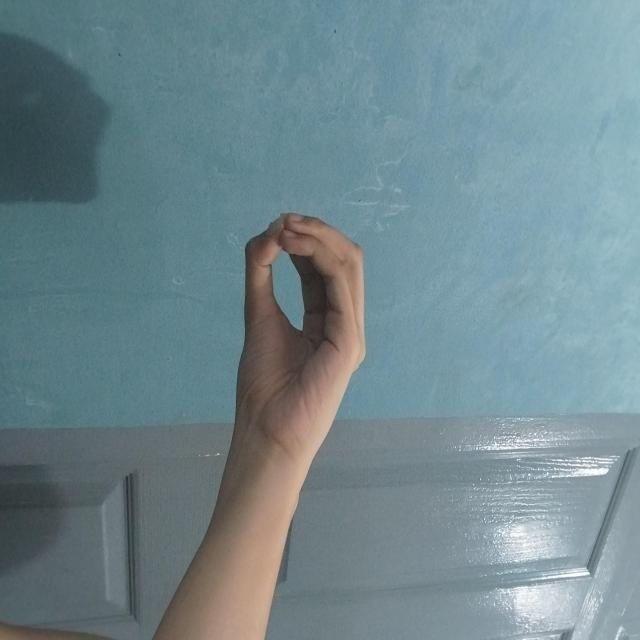O: (211, 182, 405, 485)
